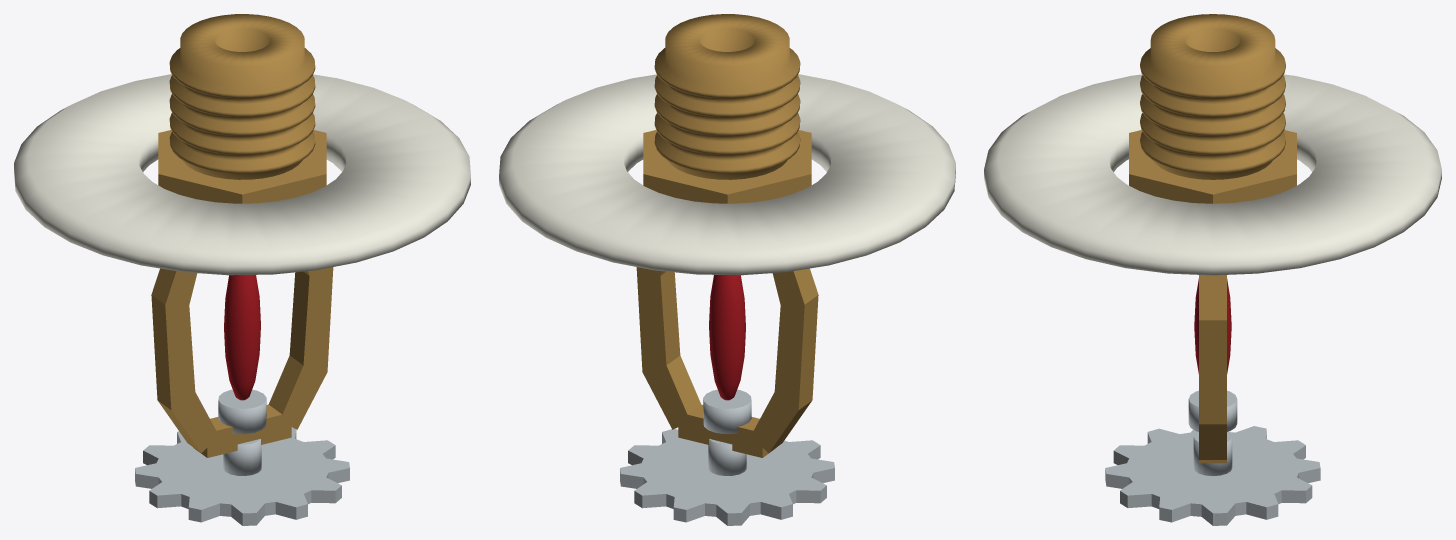
3 renders of one model, left to right at view 1: azimuth 30°, elevation 25°; view 2: azimuth 150°, elevation 25°; view 3: azimuth 270°, elevation 25°, orthographic.
Parts seen in each view (by area): view 1: MODULE_CeilingTrim, MODULE_ThreadedFitting, MODULE_Deflector, MODULE_YokeLeft, MODULE_YokeRight, MODULE_HexBody, MODULE_Bulb, MODULE_YokeBridge, MODULE_BulbLowerSeat, MODULE_DeflectorStem; view 2: MODULE_CeilingTrim, MODULE_ThreadedFitting, MODULE_Deflector, MODULE_YokeLeft, MODULE_YokeRight, MODULE_HexBody, MODULE_Bulb, MODULE_YokeBridge, MODULE_BulbLowerSeat, MODULE_DeflectorStem; view 3: MODULE_CeilingTrim, MODULE_ThreadedFitting, MODULE_Deflector, MODULE_HexBody, MODULE_YokeRight, MODULE_DeflectorStem, MODULE_BulbLowerSeat, MODULE_Bulb.
Boxes of the visible parts, <box> form: MODULE_CeilingTrim: <box>14,74,470,275</box>; MODULE_ThreadedFitting: <box>169,14,315,179</box>; MODULE_Deflector: <box>135,427,349,525</box>; MODULE_YokeLeft: <box>151,268,216,453</box>; MODULE_YokeRight: <box>268,267,333,429</box>; MODULE_HexBody: <box>158,130,326,203</box>; MODULE_Bulb: <box>224,275,260,400</box>; MODULE_YokeBridge: <box>193,404,291,457</box>; MODULE_BulbLowerSeat: <box>218,389,266,433</box>; MODULE_DeflectorStem: <box>223,439,261,475</box>; MODULE_CeilingTrim: <box>499,74,955,275</box>; MODULE_ThreadedFitting: <box>654,14,800,179</box>; MODULE_Deflector: <box>620,429,834,525</box>; MODULE_YokeLeft: <box>750,268,818,453</box>; MODULE_YokeRight: <box>636,267,701,429</box>; MODULE_HexBody: <box>643,130,811,203</box>; MODULE_Bulb: <box>709,275,745,400</box>; MODULE_YokeBridge: <box>678,404,776,457</box>; MODULE_BulbLowerSeat: <box>703,389,751,433</box>; MODULE_DeflectorStem: <box>708,439,746,475</box>; MODULE_CeilingTrim: <box>984,74,1441,275</box>; MODULE_ThreadedFitting: <box>1140,14,1285,179</box>; MODULE_Deflector: <box>1105,426,1320,525</box>; MODULE_HexBody: <box>1129,130,1296,203</box>; MODULE_YokeRight: <box>1199,275,1226,459</box>; MODULE_DeflectorStem: <box>1193,432,1232,475</box>; MODULE_BulbLowerSeat: <box>1188,390,1237,431</box>; MODULE_Bulb: <box>1194,279,1231,373</box>.
Size of the model in its own units: 0.066 by 0.071 by 0.066.
